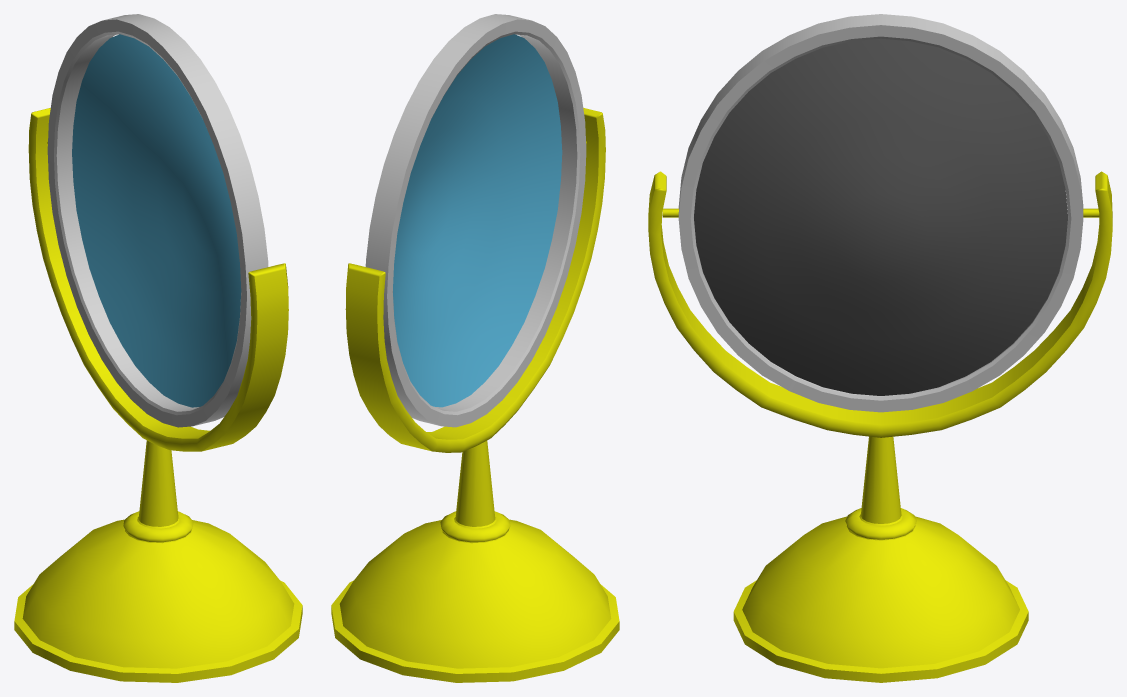
File: mirror.glb
3 views of the same model, side by side, from view 1: azimuth 30°, elevation 25°; view 2: azimuth 150°, elevation 25°; view 3: azimuth 270°, elevation 25° (orthographic).
Visible parts, largest first — view 1: Mirror_Stand, Front, Frame; view 2: Mirror_Stand, Front, Frame; view 3: Back, Mirror_Stand, Frame.
Part boxes in pixels (<box>): Mirror_Stand: <box>14,108,302,682</box>; Front: <box>72,34,241,407</box>; Frame: <box>47,14,268,427</box>; Mirror_Stand: <box>331,108,619,682</box>; Front: <box>393,34,562,407</box>; Frame: <box>365,14,586,427</box>; Back: <box>694,38,1067,395</box>; Mirror_Stand: <box>648,171,1112,682</box>; Frame: <box>678,14,1083,412</box>.
Size of the model in its own units: 0.00314 by 0.00706 by 0.00494.
Materials: 4 (1 with a texture image).
